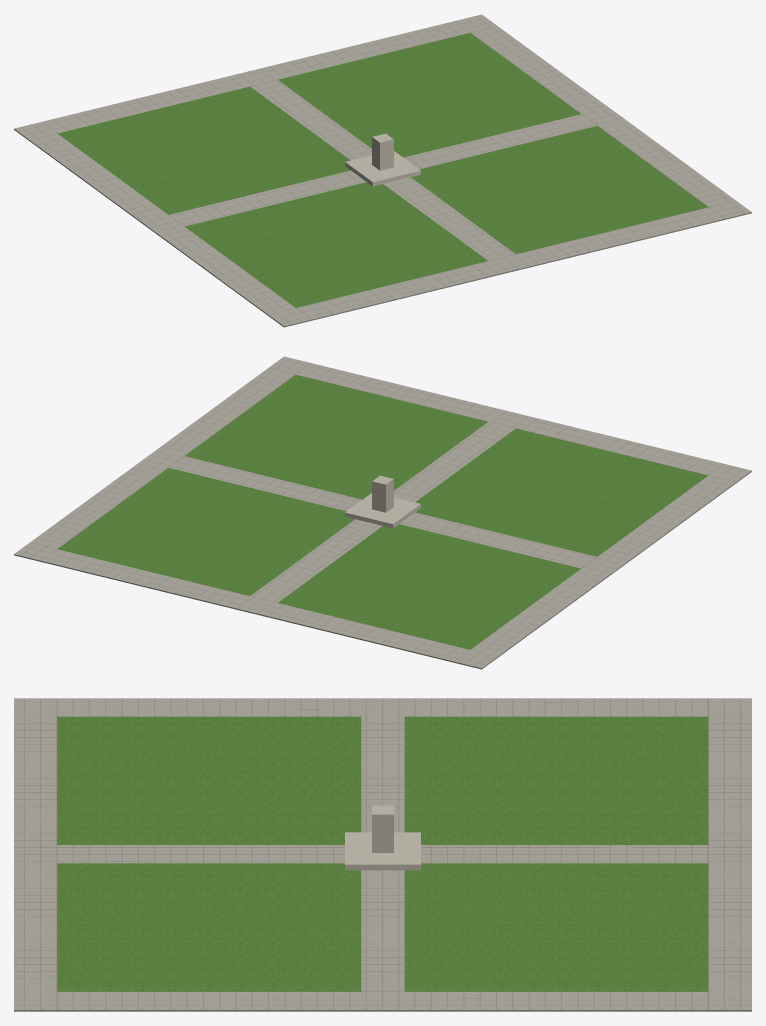
Rendered from courthouse_square_68.glb.
3 views of the same model, one above another, from view 1: azimuth 30°, elevation 25°; view 2: azimuth 150°, elevation 25°; view 3: azimuth 270°, elevation 25° (orthographic). The views are drawn at different scales.
Visible parts, largest first — view 1: courthouse_square_68; view 2: courthouse_square_68; view 3: courthouse_square_68.
Boxes of the visible parts, box(x1,y1,x2,y2) form: courthouse_square_68: box(14, 14, 751, 327); courthouse_square_68: box(14, 356, 751, 669); courthouse_square_68: box(14, 698, 751, 1011).
Bounding box in the file's own units: 68 × 4.65 × 68.
4 materials, 4 textured.
